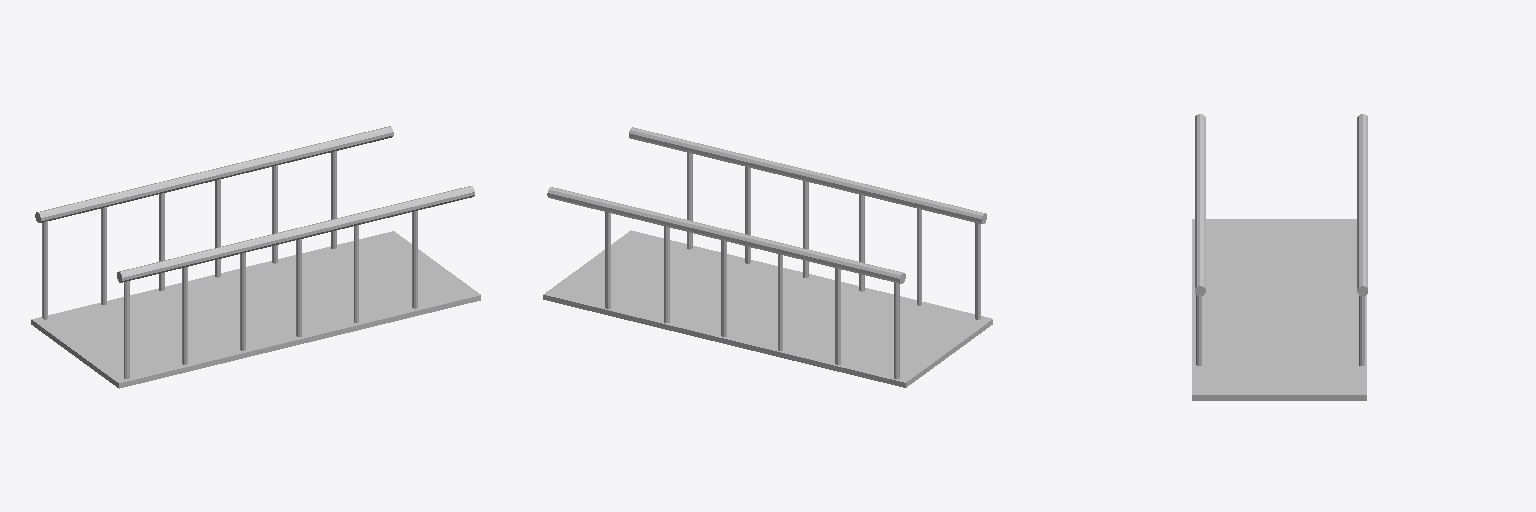
The model's file is catwalk.obj.
3 renders of one model, left to right at view 1: azimuth 30°, elevation 25°; view 2: azimuth 150°, elevation 25°; view 3: azimuth 270°, elevation 25°, orthographic.
Parts seen in each view (by area): view 1: Catwalk; view 2: Catwalk; view 3: Catwalk.
Boxes of the visible parts, box(x1,y1,x2,y2) form: Catwalk: box(31, 126, 480, 388); Catwalk: box(543, 127, 992, 387); Catwalk: box(1192, 114, 1367, 400).
Bounding box in the file's own units: 286 × 84.55 × 121.